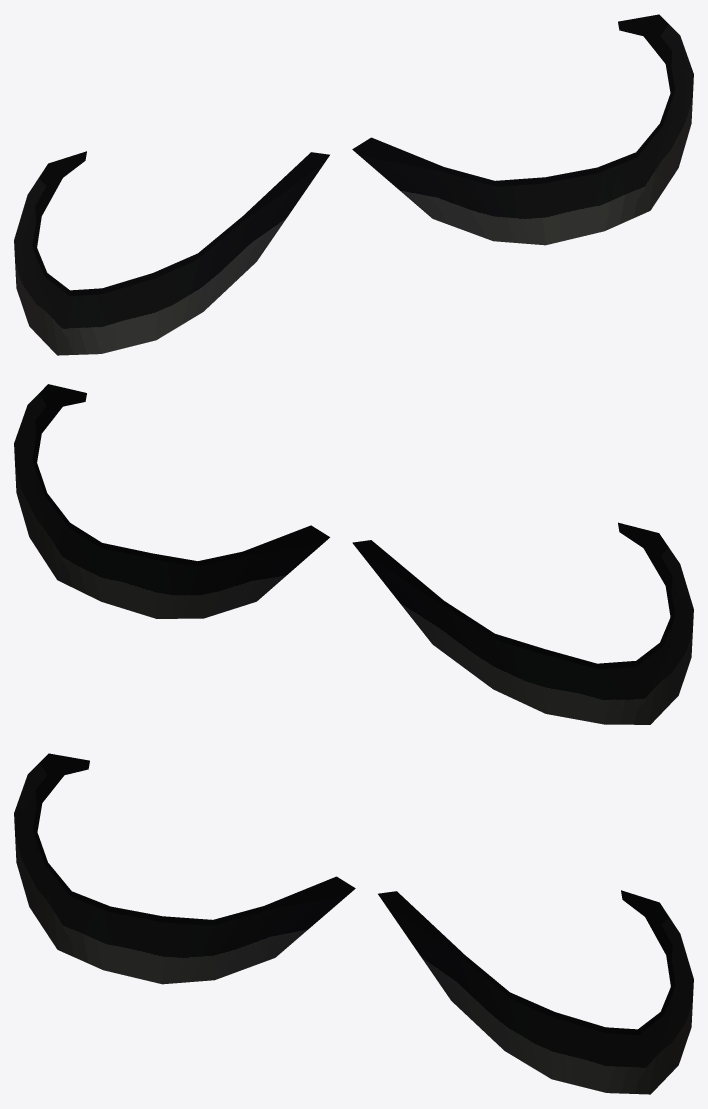
The model's file is moverstache.glb.
3 renders of one model, top to bottom at view 1: azimuth 30°, elevation 25°; view 2: azimuth 150°, elevation 25°; view 3: azimuth 330°, elevation 25°, orthographic.
Visible parts, largest first — view 1: Plane; view 2: Plane; view 3: Plane.
Boxes of the visible parts, box(x1,y1,x2,y2) form: Plane: box(14, 14, 693, 355); Plane: box(14, 384, 693, 724); Plane: box(14, 753, 693, 1094).
Bounding box in the file's own units: 4.17 × 1.22 × 0.1354.
Materials: 1 (1 with a texture image).
